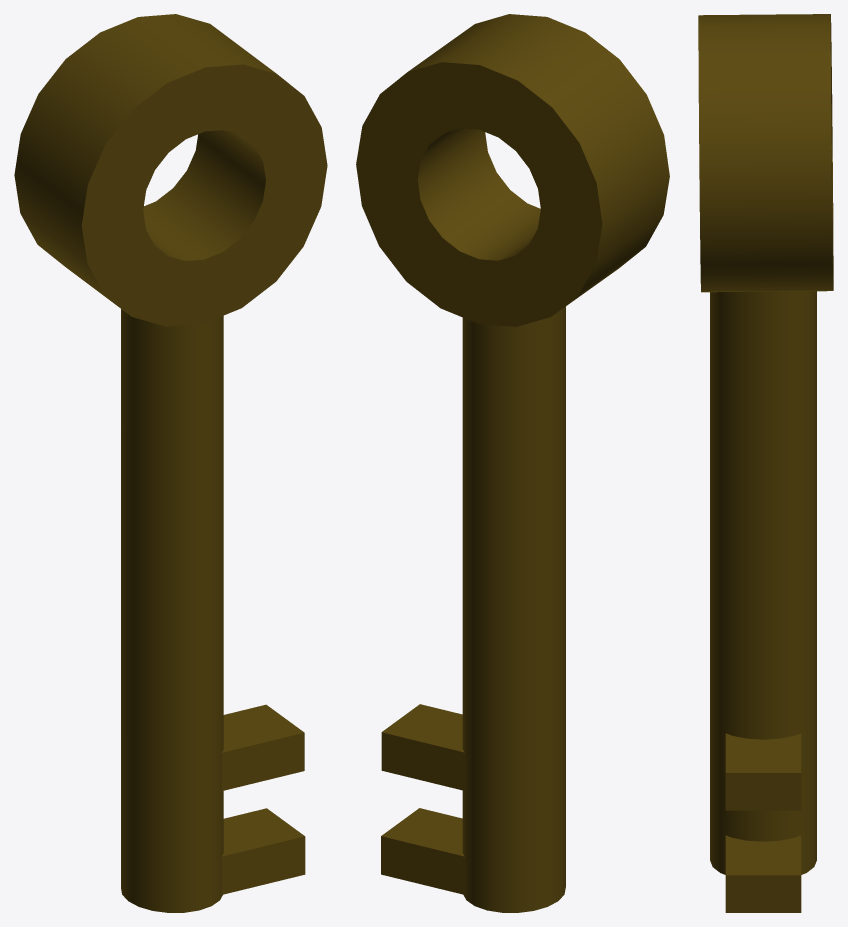
File: Key.dae
3 views of the same model, side by side, from view 1: azimuth 30°, elevation 25°; view 2: azimuth 150°, elevation 25°; view 3: azimuth 270°, elevation 25° (orthographic).
Visible parts, largest first — view 1: pPipe1, pCylinder1, pCube1, pCube2; view 2: pPipe1, pCylinder1, pCube1, pCube2; view 3: pCylinder1, pPipe1, pCube2, pCube1.
Boxes of the visible parts, left/top/right/bottom form: pPipe1: left=14, top=14, right=327, bottom=326; pCylinder1: left=121, top=309, right=223, bottom=912; pCube1: left=221, top=808, right=305, bottom=894; pCube2: left=221, top=704, right=304, bottom=790; pPipe1: left=356, top=14, right=669, bottom=326; pCylinder1: left=462, top=306, right=565, bottom=912; pCube1: left=381, top=808, right=464, bottom=894; pCube2: left=381, top=704, right=464, bottom=790; pCylinder1: left=710, top=291, right=816, bottom=874; pPipe1: left=698, top=14, right=833, bottom=292; pCube2: left=725, top=733, right=801, bottom=810; pCube1: left=725, top=835, right=801, bottom=912.
Bounding box in the file's own units: 1.25 × 4.12 × 0.6043.
